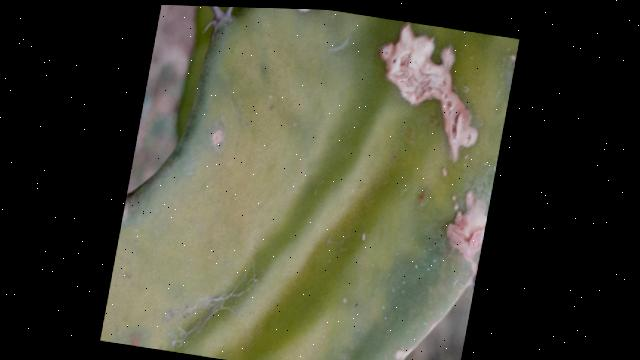stemcanker: (378, 23, 480, 171), (450, 189, 489, 272), (187, 119, 241, 163)
